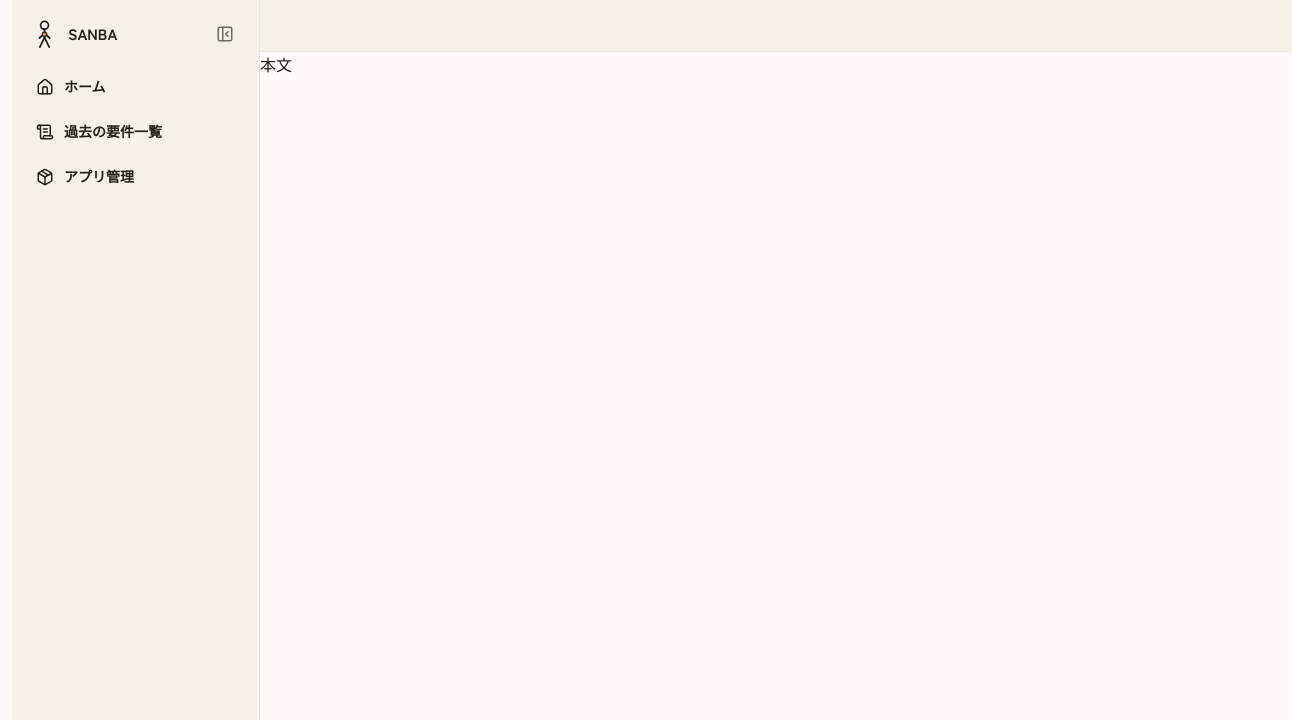
Test case: AppShell（恒常サイドメニュー＋ヘッダー） › 閉じるとサイドメニューを隠し、開くボタンを出して localStorage に保存する（PC）
Expected: the link "ホーム" is shown, [36,76,106,96]
Step 1. Click the button named "サイドメニューを閉じる" → (225, 34), box [209,18,241,50]
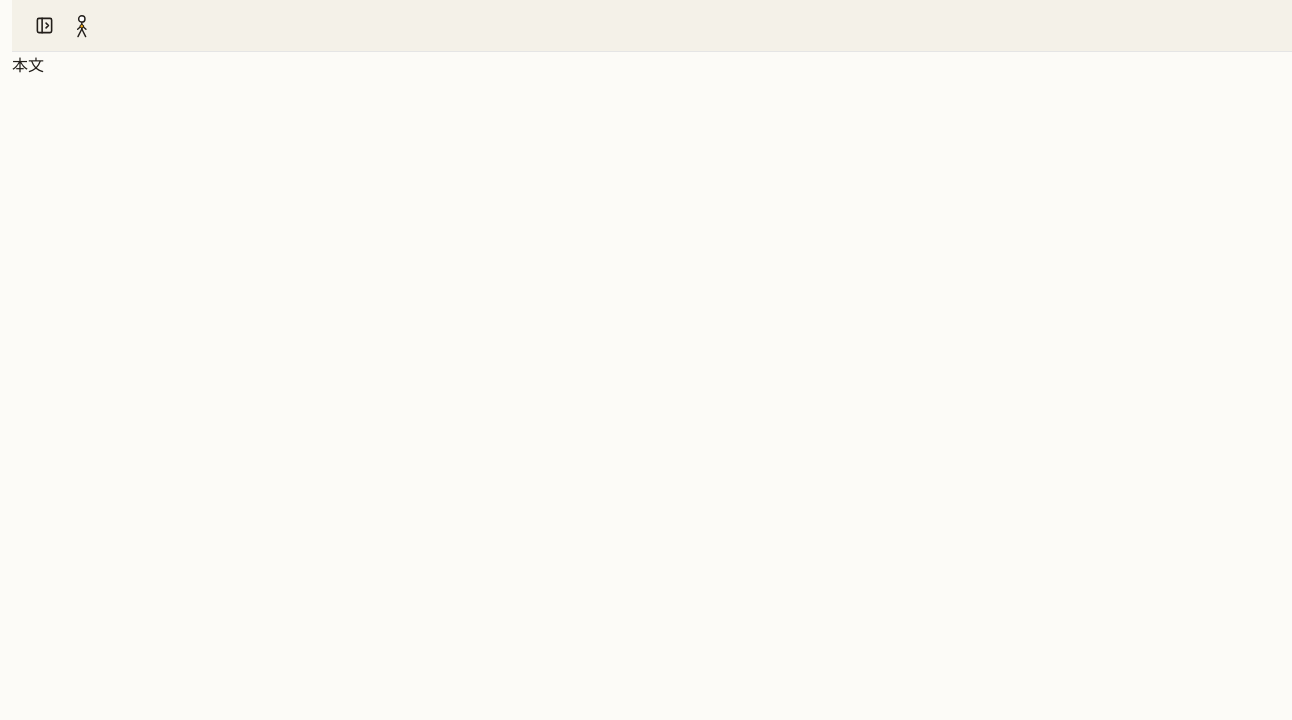
Expected: the link "ホーム" is gone
Expected: the button named "サイドメニューを開く" is shown, [26,8,62,44]
